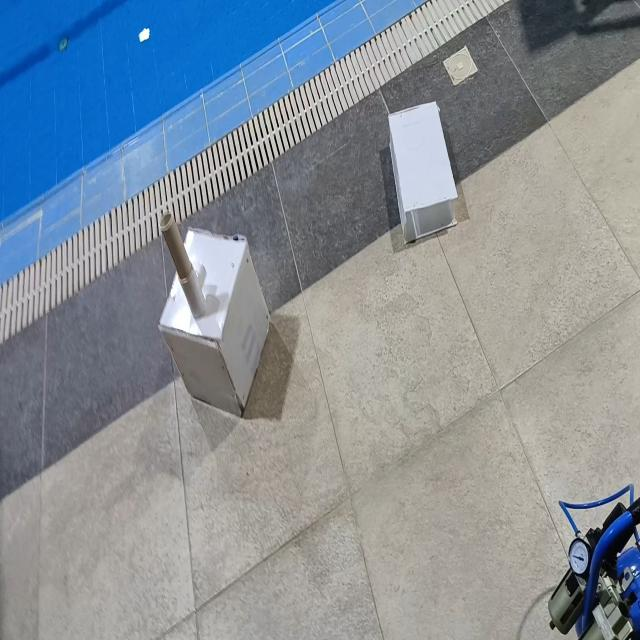Cube: (158, 225, 271, 417)
Cuboid: (387, 99, 459, 244)
